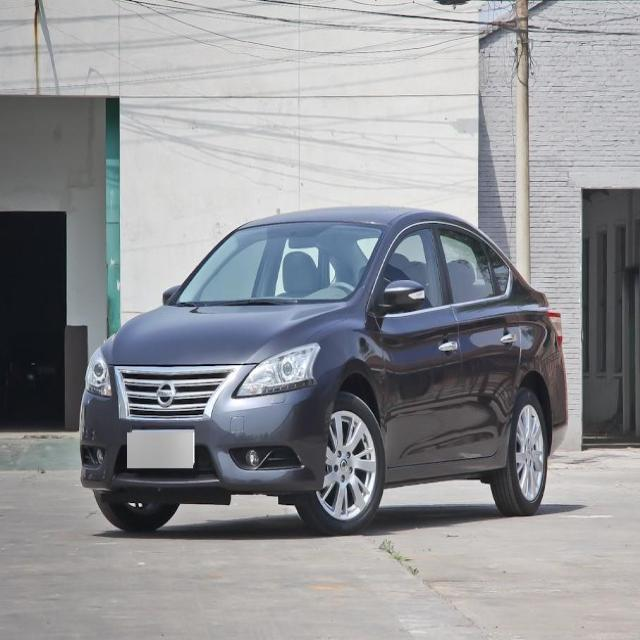back_left_side_light: (542, 306, 564, 350)
door: (435, 223, 525, 473)
front_bumper: (78, 387, 329, 494)
front_glass: (174, 218, 384, 308)
front_left_side_door: (369, 218, 468, 475)
front_left_side_light: (232, 338, 322, 400)
front_left_side_mirror: (381, 277, 426, 315)
front_right_side_light: (82, 344, 114, 398)
wheel: (298, 392, 384, 528), (492, 390, 547, 514)
